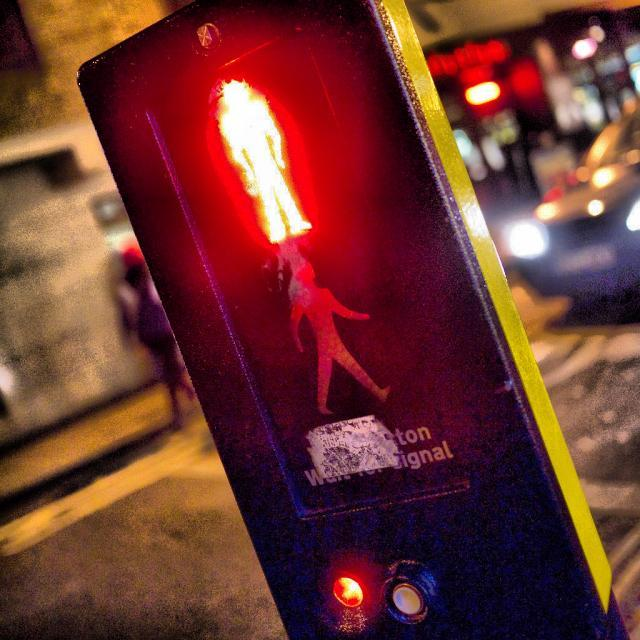red_light: (210, 75, 316, 247)
